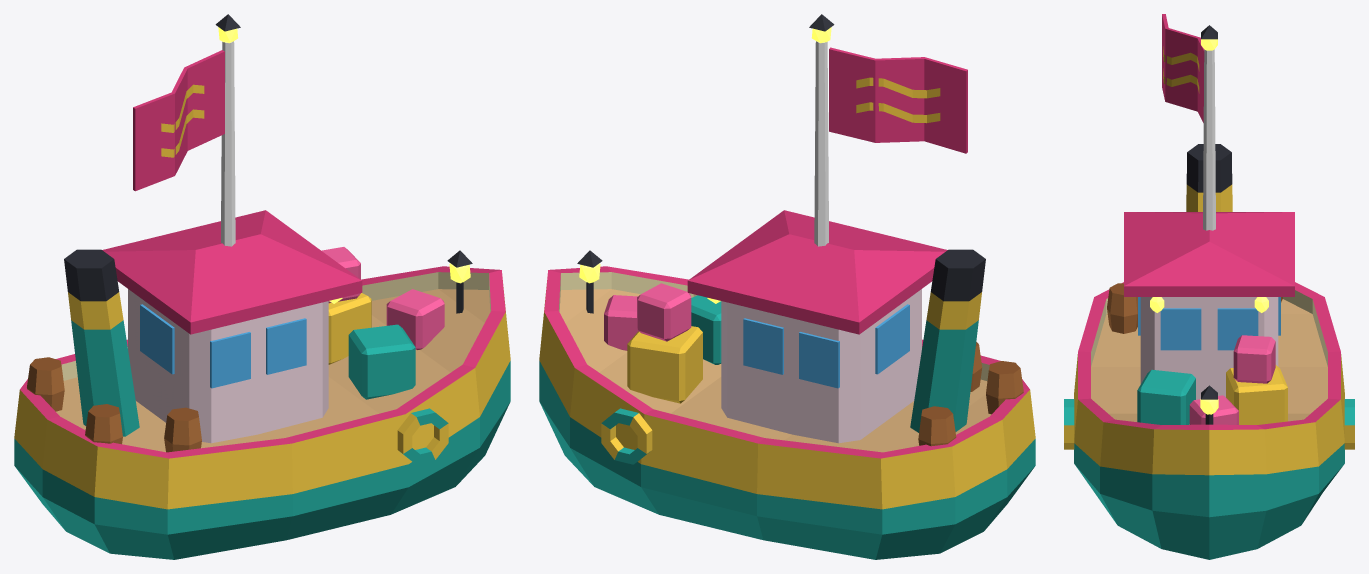
Rendered from low-poly-fiesta.glb.
3 renders of one model, left to right at view 1: azimuth 30°, elevation 25°; view 2: azimuth 150°, elevation 25°; view 3: azimuth 270°, elevation 25°, orthographic. The views are drawn at different scales.
Parts seen in each view (by area): view 1: hull, roof, cabin, crates, funnel, flag, glass, barrels, mast, life_rings, flag_symbol, lanterns; view 2: hull, roof, cabin, flag, crates, funnel, glass, barrels, mast, life_rings, flag_symbol, lanterns; view 3: hull, roof, crates, cabin, glass, flag, funnel, mast, barrels, life_rings, lanterns, flag_symbol (+1 smaller).
Boxes of the visible parts, bbox=[...] form: hull: bbox=[14, 266, 510, 559]; roof: bbox=[102, 210, 362, 334]; cabin: bbox=[128, 289, 328, 443]; crates: bbox=[321, 247, 444, 399]; funnel: bbox=[64, 249, 139, 436]; flag: bbox=[133, 50, 224, 191]; glass: bbox=[140, 304, 306, 388]; barrels: bbox=[27, 357, 201, 452]; mast: bbox=[221, 41, 235, 246]; life_rings: bbox=[397, 408, 448, 464]; flag_symbol: bbox=[161, 84, 204, 157]; lanterns: bbox=[218, 27, 470, 303]; hull: bbox=[539, 266, 1035, 559]; roof: bbox=[687, 210, 947, 334]; cabin: bbox=[721, 289, 921, 443]; flag: bbox=[829, 47, 967, 153]; crates: bbox=[604, 283, 721, 403]; funnel: bbox=[910, 249, 985, 432]; glass: bbox=[743, 304, 909, 388]; barrels: bbox=[918, 342, 1023, 446]; mast: bbox=[814, 41, 828, 246]; life_rings: bbox=[601, 408, 652, 464]; flag_symbol: bbox=[856, 77, 940, 123]; lanterns: bbox=[579, 27, 831, 303]; hull: bbox=[1074, 282, 1344, 559]; roof: bbox=[1124, 212, 1294, 296]; crates: bbox=[1137, 335, 1287, 424]; cabin: bbox=[1140, 297, 1278, 399]; glass: bbox=[1138, 297, 1280, 350]; flag: bbox=[1162, 14, 1204, 122]; funnel: bbox=[1186, 144, 1232, 211]; mast: bbox=[1203, 49, 1215, 230]; barrels: bbox=[1107, 283, 1282, 333]; life_rings: bbox=[1064, 399, 1354, 449]; lanterns: bbox=[1150, 39, 1268, 414]; flag_symbol: bbox=[1163, 46, 1199, 93].
Bounding box in the file's own units: 2 × 1.97 × 1.22.
